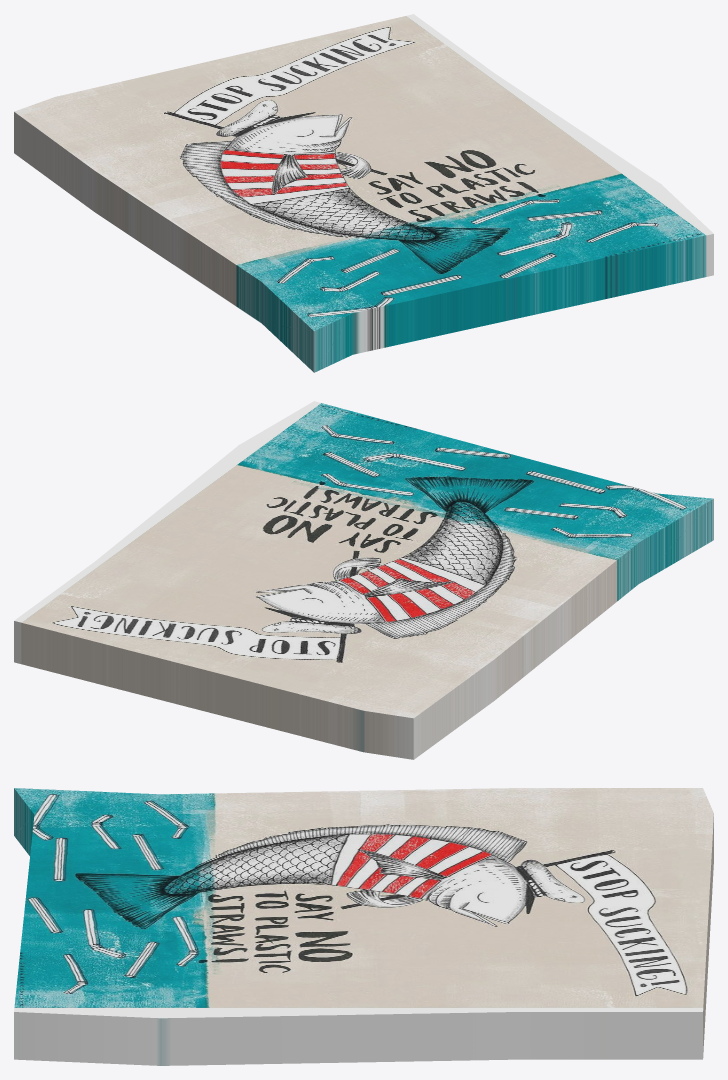
The model's file is Poster_4.fbx.
3 views of the same model, one above another, from view 1: azimuth 30°, elevation 25°; view 2: azimuth 150°, elevation 25°; view 3: azimuth 270°, elevation 25° (orthographic). The views are drawn at different scales.
Visible parts, largest first — view 1: pCube4; view 2: pCube4; view 3: pCube4.
Part boxes in pixels (x1,y1,x2,y2): pCube4: (14,14,713,372); pCube4: (14,401,713,759); pCube4: (14,788,713,1065).
Bounding box in the file's own units: 10.35 × 1 × 13.3.
